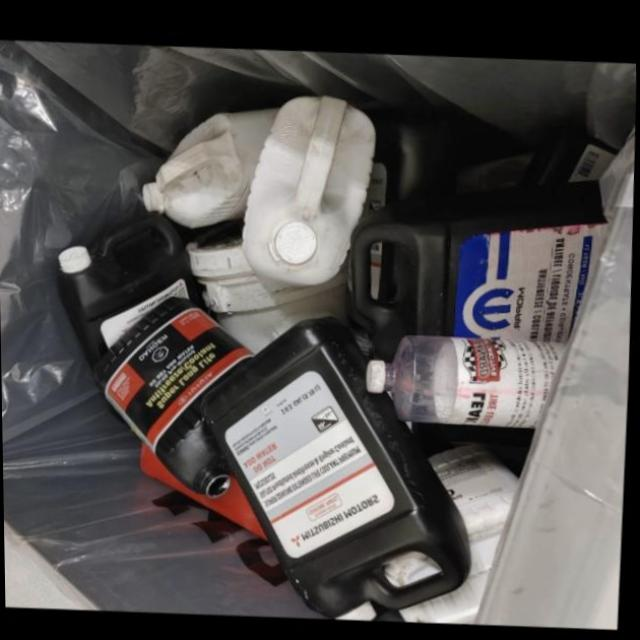chai_nhua: (370, 330, 569, 423)
hop_nhua: (204, 312, 476, 617), (352, 173, 611, 352), (95, 293, 256, 496), (243, 90, 377, 283), (186, 216, 367, 351), (60, 212, 202, 366), (408, 433, 523, 620), (141, 102, 277, 223)
